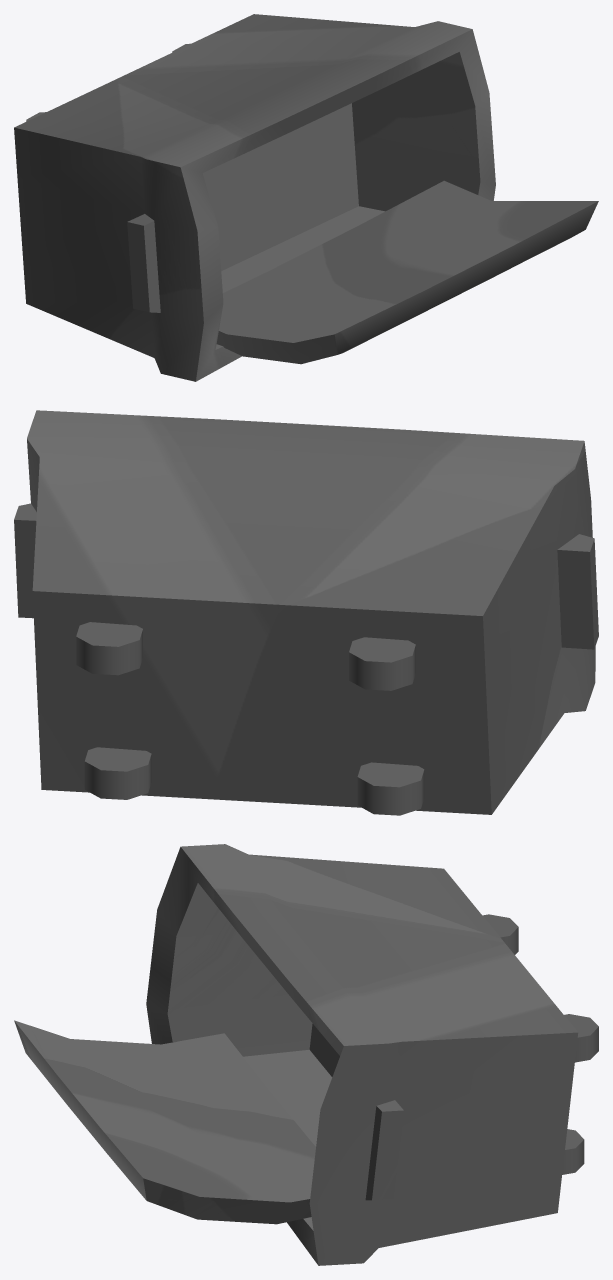
Rendered from Poubelle.fbx.
3 renders of one model, top to bottom at view 1: azimuth 30°, elevation 25°; view 2: azimuth 150°, elevation 25°; view 3: azimuth 270°, elevation 25°, orthographic. The views are drawn at different scales.
Visible parts, largest first — view 1: Cylinder.164; view 2: Cylinder.164; view 3: Cylinder.164.
Boxes of the visible parts, box(x1,y1,x2,y2) form: Cylinder.164: box(14, 14, 598, 381); Cylinder.164: box(14, 410, 598, 815); Cylinder.164: box(14, 844, 598, 1265).
Bounding box in the file's own units: 229 × 109 × 248.
1 material, 1 textured.
